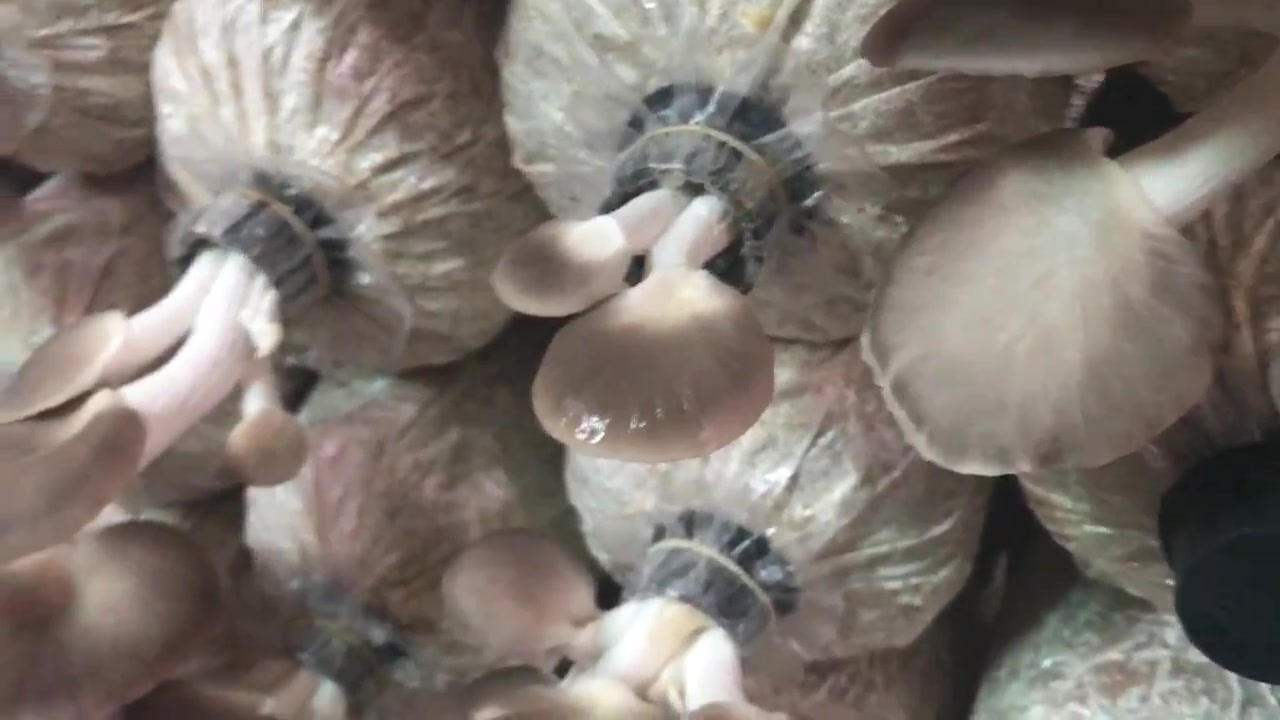nam: (860, 1, 1278, 482), (2, 206, 323, 720), (489, 99, 817, 460), (427, 528, 798, 720)
